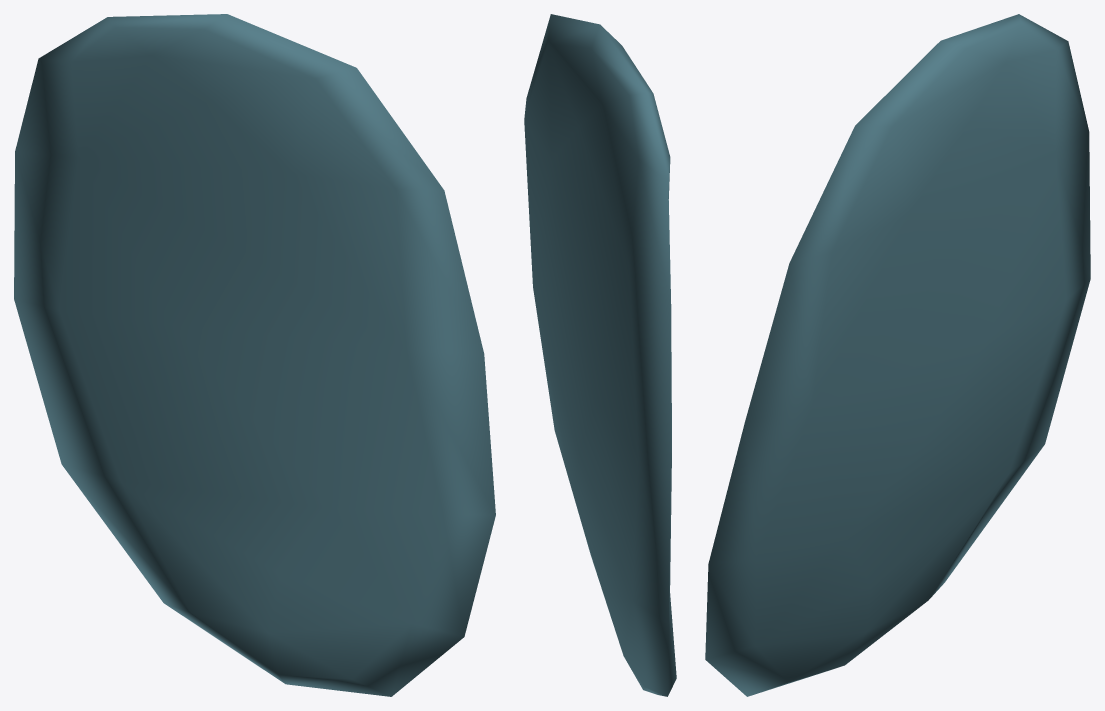
Rendered from Humeral_head_extensor_carpi_ulnaris_insertion_right.glb.
The picture shows the model from 3 angles, left to right: view 1: azimuth 30°, elevation 25°; view 2: azimuth 150°, elevation 25°; view 3: azimuth 270°, elevation 25°; orthographic projection. The views are drawn at different scales.
Visible parts, largest first — view 1: Humeral_head_of_extensor_carpi_ulnaris-Insertion.r_Generated; view 2: Humeral_head_of_extensor_carpi_ulnaris-Insertion.r_Generated; view 3: Humeral_head_of_extensor_carpi_ulnaris-Insertion.r_Generated.
Boxes of the visible parts, x1,y1,x2,y2 form: Humeral_head_of_extensor_carpi_ulnaris-Insertion.r_Generated: (14, 14, 495, 696); Humeral_head_of_extensor_carpi_ulnaris-Insertion.r_Generated: (524, 14, 676, 696); Humeral_head_of_extensor_carpi_ulnaris-Insertion.r_Generated: (705, 14, 1090, 696).
Size of the model in its own units: 0.00377 by 0.00767 by 0.00428.
